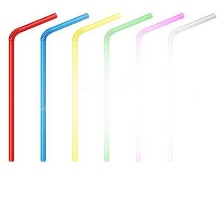drinking_straw: (34, 9, 91, 164), (3, 10, 60, 165), (161, 9, 218, 163), (100, 10, 156, 164)
